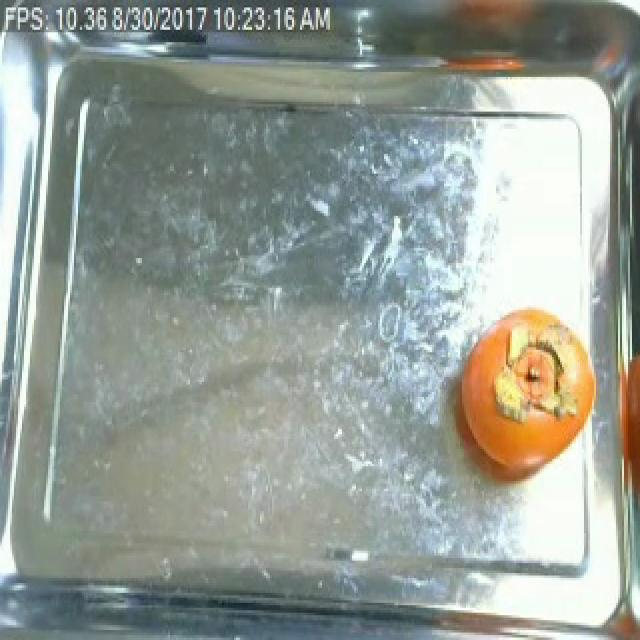Fruit: (452, 328, 580, 482), (608, 335, 640, 511)
